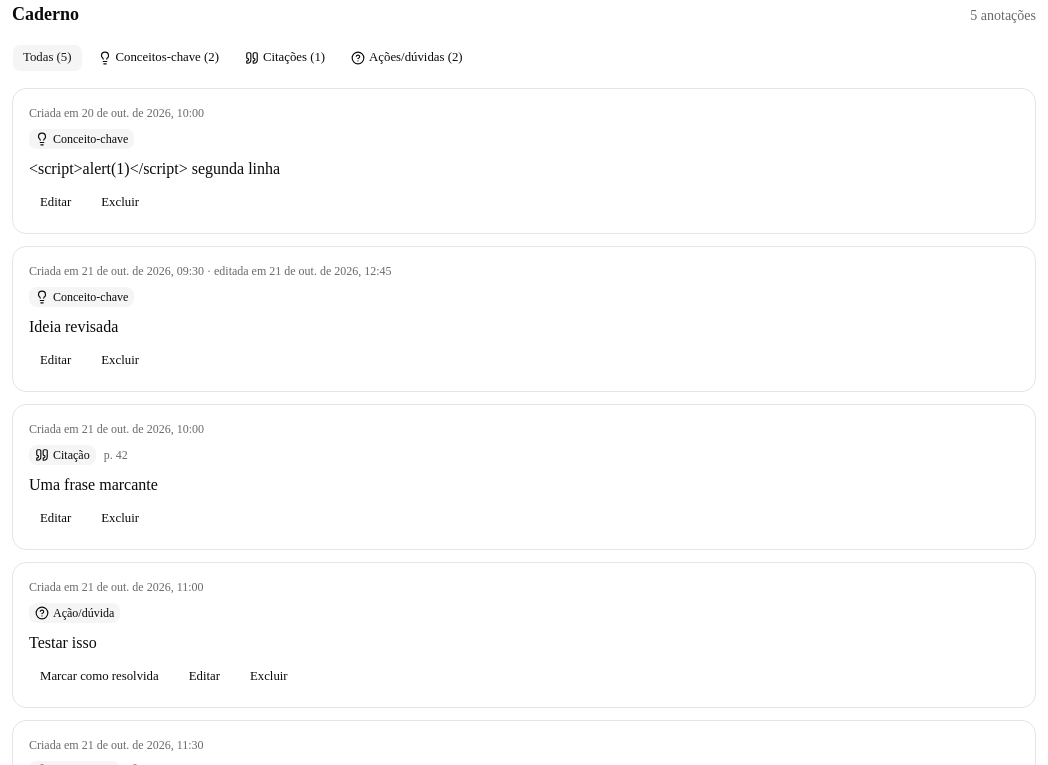
Test: Notebook › shows a refused resolution
The image size is (1048, 765).
What coordinates should you click on to do the following:
click the button named "Marcar como resolvida a anotação de 21 de out. de 2026, 11:00"
I would click on:
 (99, 677)
Its box is [29,663,170,691].
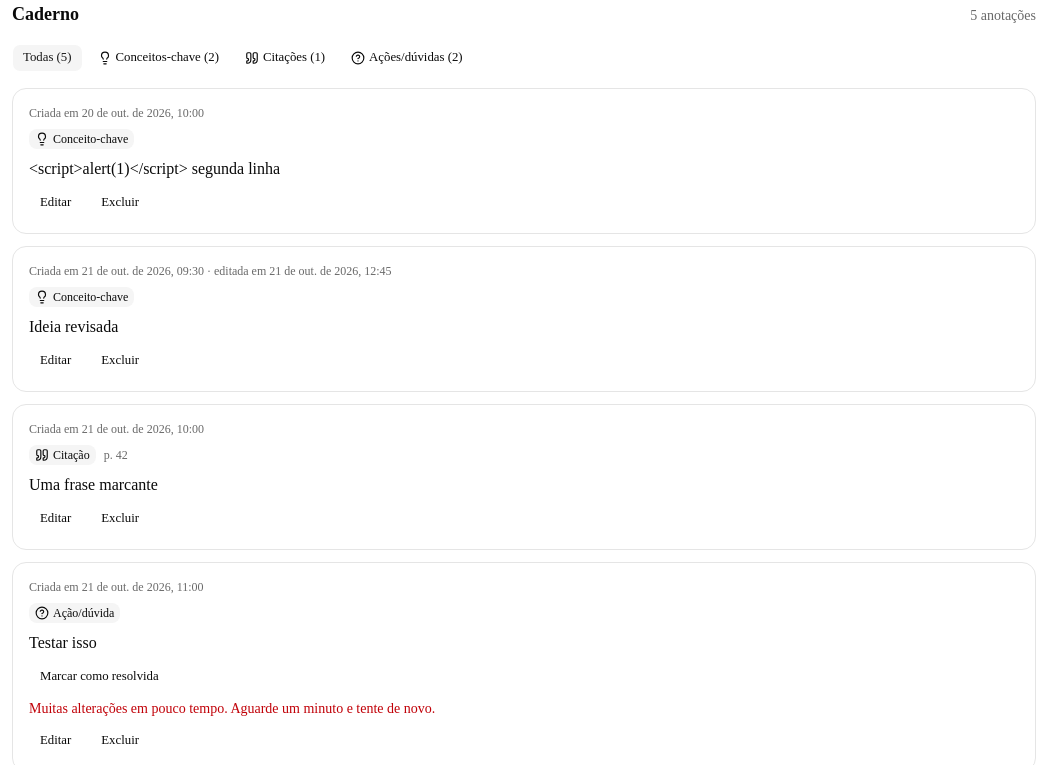
Now the message shows "Muitas alterações em pouco tempo.", box [29,701,435,716]
